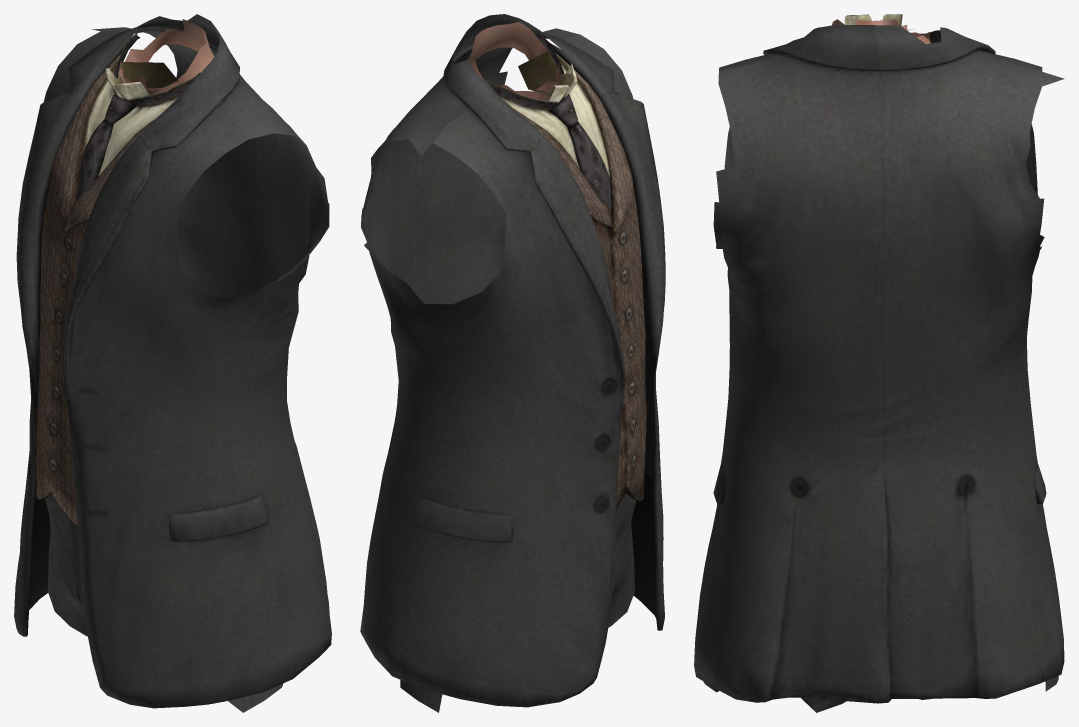
Rendered from Alumno2.obj.
The picture shows the model from 3 angles, left to right: view 1: azimuth 30°, elevation 25°; view 2: azimuth 150°, elevation 25°; view 3: azimuth 270°, elevation 25°; orthographic projection. The views are drawn at different scales.
Visible parts, largest first — view 1: Alumno2Torso; view 2: Alumno2Torso; view 3: Alumno2Torso.
Boxes of the visible parts, left/top/right/bottom form: Alumno2Torso: left=14, top=14, right=331, bottom=712; Alumno2Torso: left=360, top=14, right=665, bottom=712; Alumno2Torso: left=694, top=14, right=1064, bottom=712.
Size of the model in its own units: 0.4629 by 1.14 by 0.5648.
Materials: 3 (3 with a texture image).
